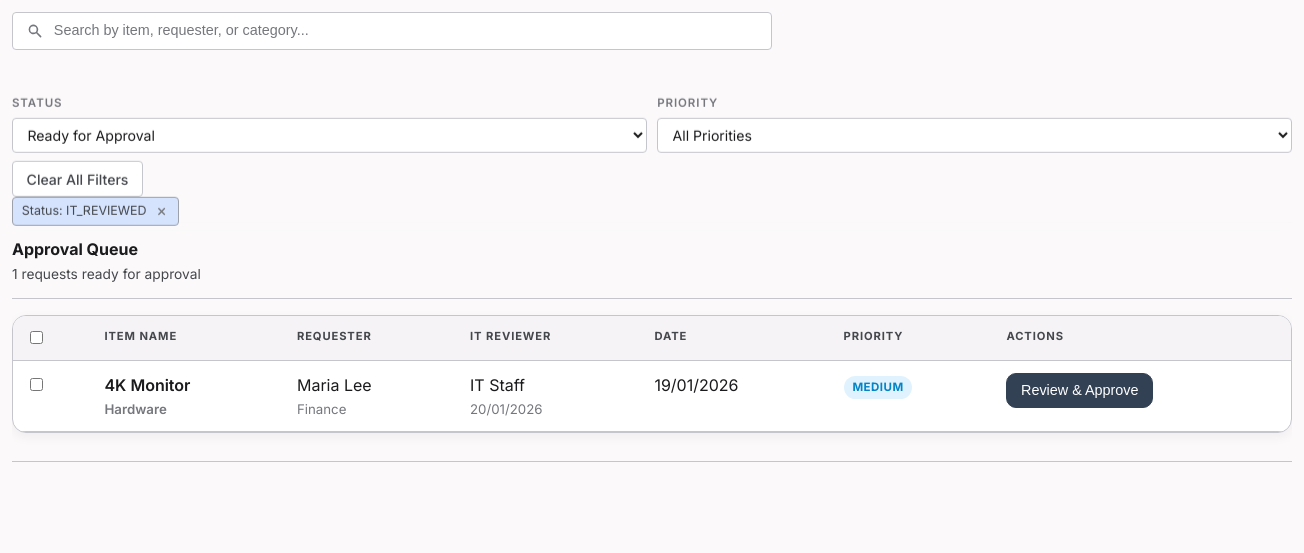
Test: AdminApprovalPage › shows standardized bulk action row when selection count is non-zero
The width and height of the screenshot is (1304, 553).
Expected: the text "1 selected" is not shown
Expected: the element with class "workspace-panel-table" is shown, top-left (12, 222), bottom-right (1292, 462)
Click the checkbox named "Select request 4K Monitor" at (36,384), box top-left (30, 378), bottom-right (43, 391)
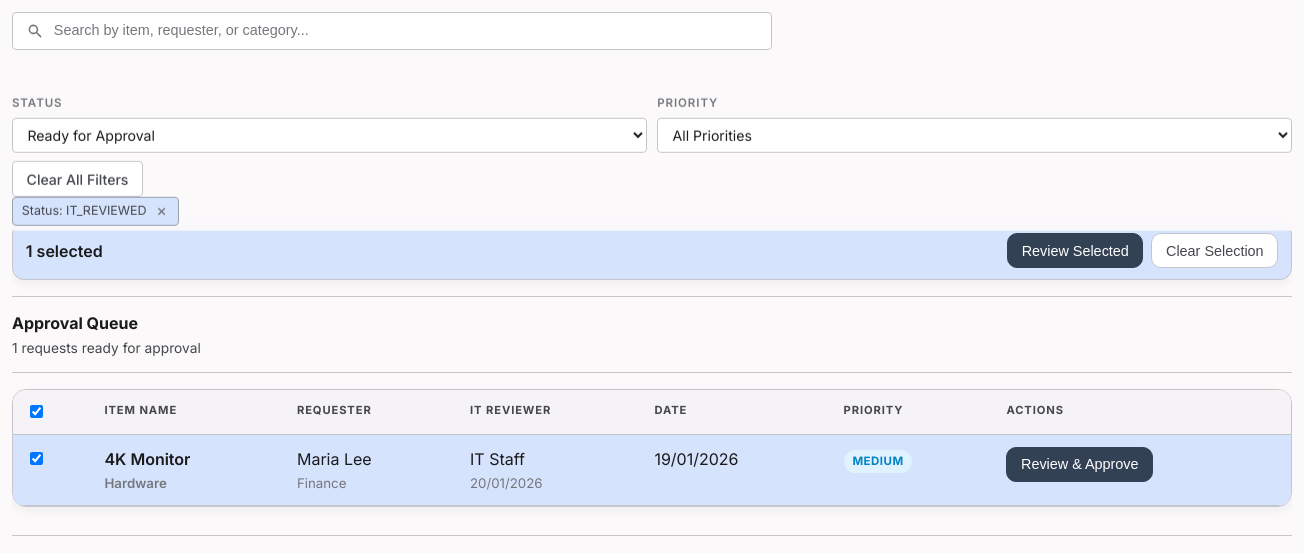
Expected: the text "1 selected" is shown, top-left (26, 239), bottom-right (103, 263)
